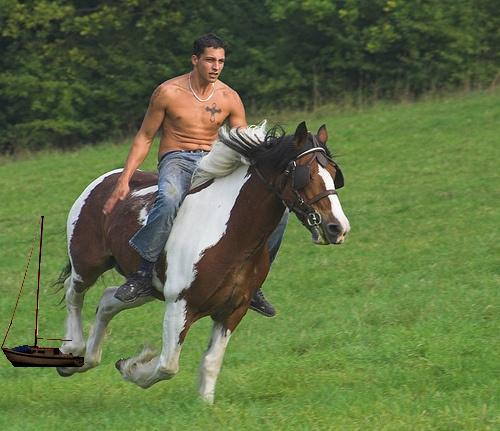tampered: (2, 217, 84, 367)
